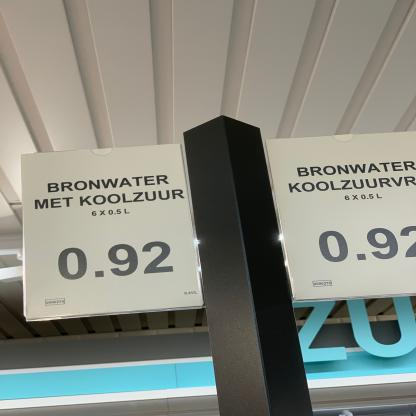prtg: (22, 144, 205, 321), (264, 132, 416, 304)
